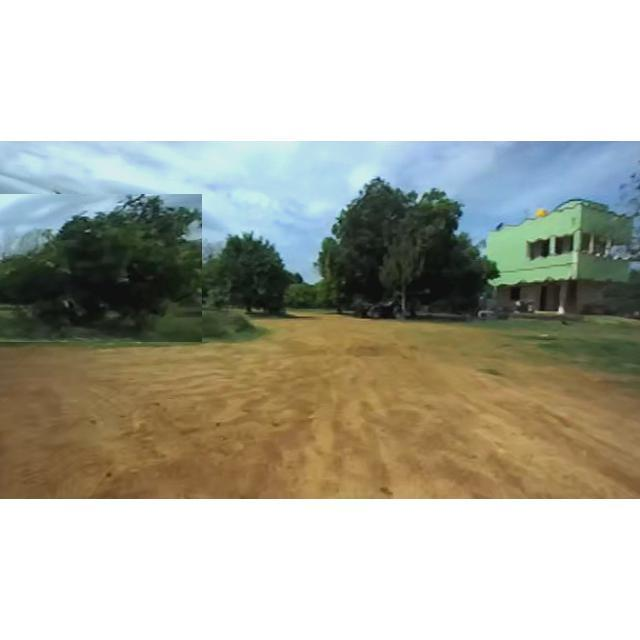direk: (0, 194, 202, 342), (319, 168, 499, 330), (188, 220, 304, 320)
